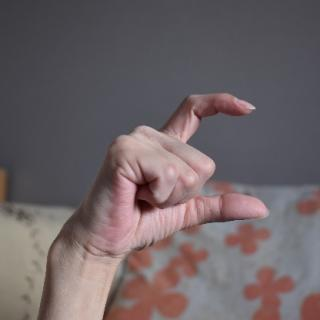DELL: (52, 88, 275, 264)
